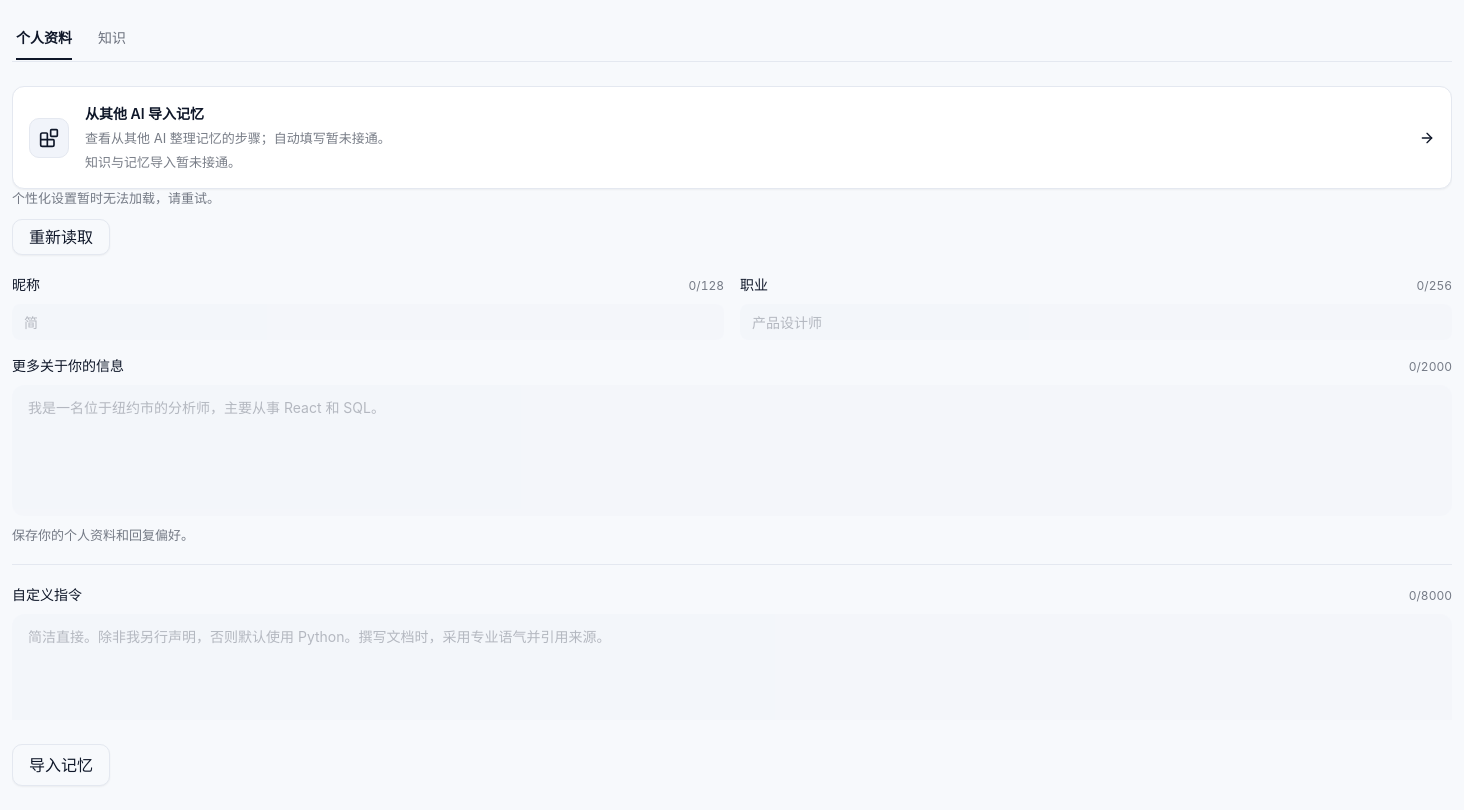
keeps failed initial reads locked with no PUT and allows a deliberate read retry
Expected: the text "个性化设置暂时无法加载，请重试。" is shown, [12,190,220,206]
Expected: the field labelled "昵称" is disabled, [12,304,724,340]
What coordinates should you click on to do the following:
click the button "重新读取"
I would click on:
 (61, 237)
Its box is [12,219,110,255].
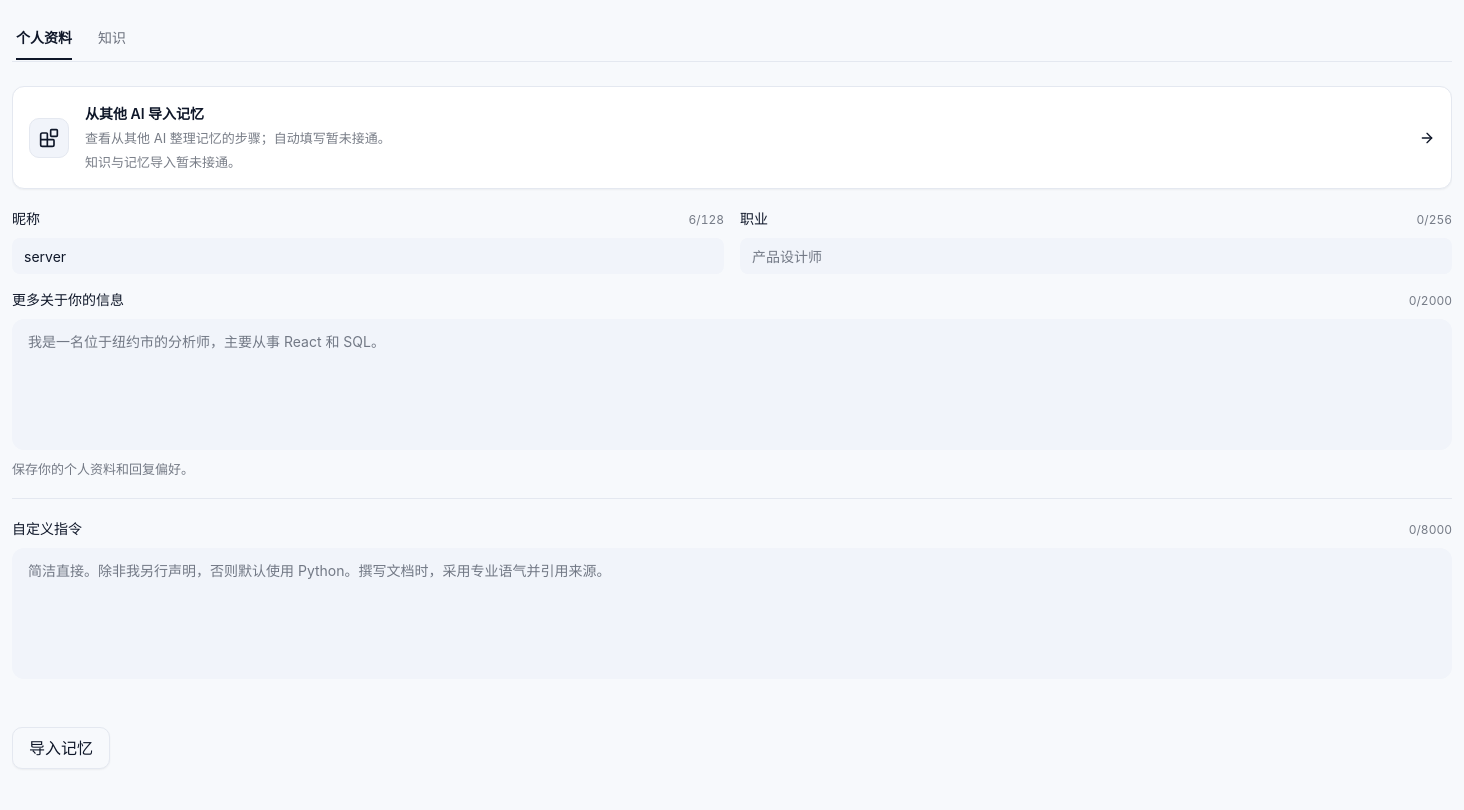
Expected: the field labelled "昵称" holds "server", [12,238,724,274]
Expected: the field labelled "昵称" is enabled, [12,238,724,274]
